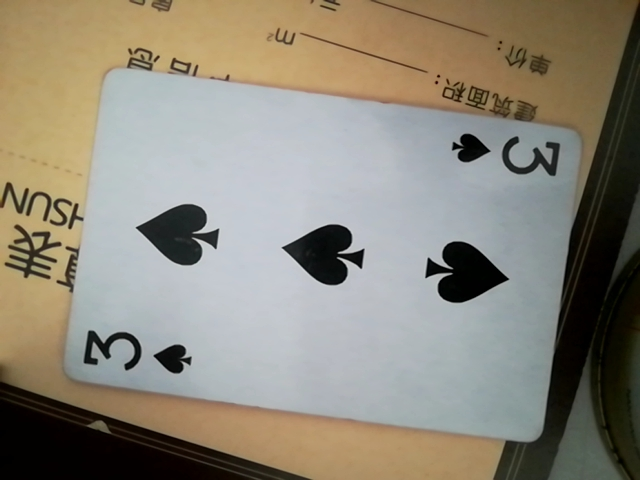ht 3: (43, 62, 592, 453)
